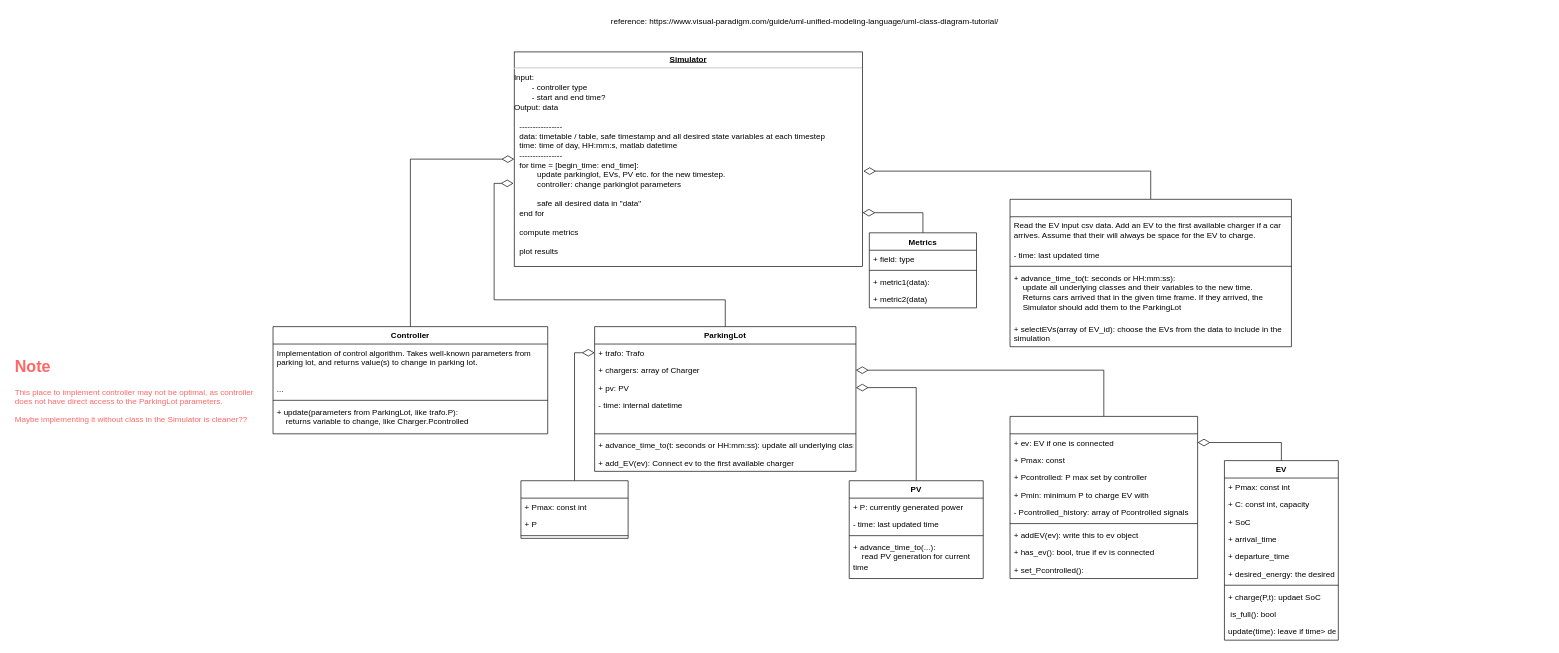
The diagram is 1559 pixels wide and 653 high, and some of its shapes have lost their labels. Each missing label, with the box of its shape:
Charger: (1009, 416, 1198, 579)
DriveEV: (1009, 199, 1291, 347)
Trafo: (520, 480, 628, 538)
